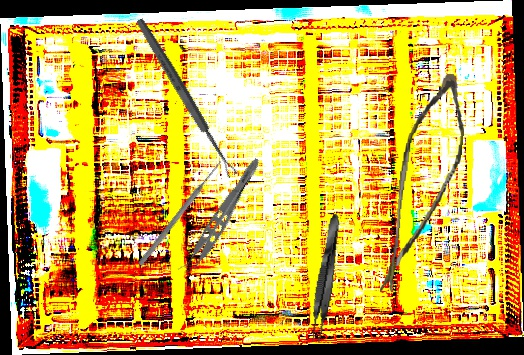Micro Scissor: (379, 69, 470, 304)
Pusher: (137, 158, 224, 268)
Surgical Spoon: (133, 16, 239, 180)
Tissue Forceps: (175, 151, 264, 280), (306, 212, 346, 344)
